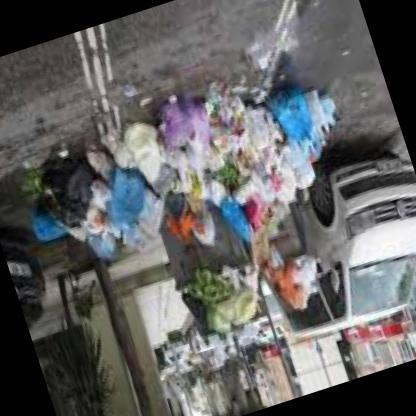Garbage: (120, 82, 242, 221), (204, 89, 294, 242), (13, 140, 137, 245), (240, 76, 350, 176), (70, 152, 160, 258), (246, 122, 322, 221), (178, 266, 270, 341)
